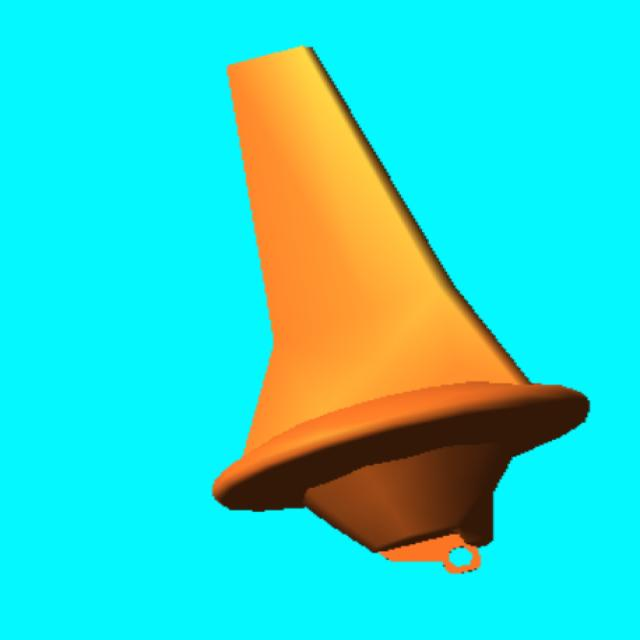OrangeBuoy: (214, 48, 588, 551)
